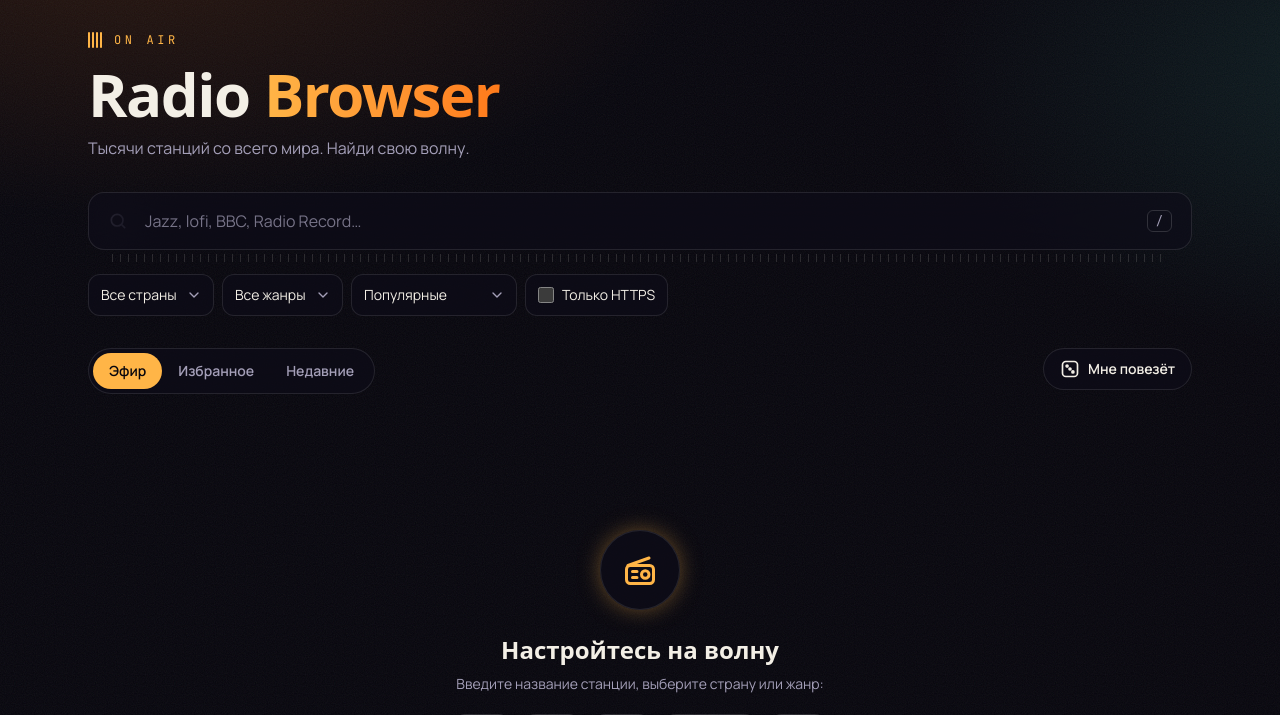
Test: App › избранное не сбрасывается при новом поиске
The width and height of the screenshot is (1280, 715).
Step 1. Type "jazz" into the search field named "Поиск станции по названию" → (640, 221), box [88,192,1192,250]
Then press Enter
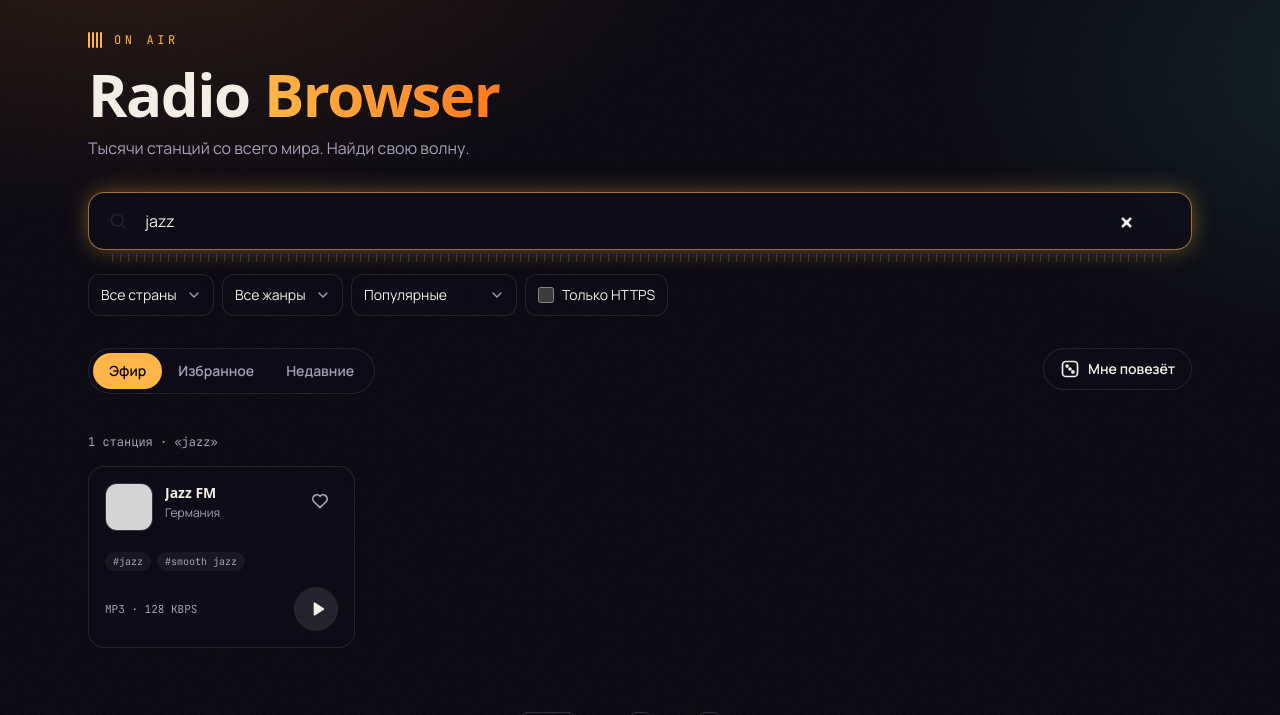
Step 2. Click the button named "Добавить «Jazz FM» в избранное" → (320, 501), box [302,483,338,519]
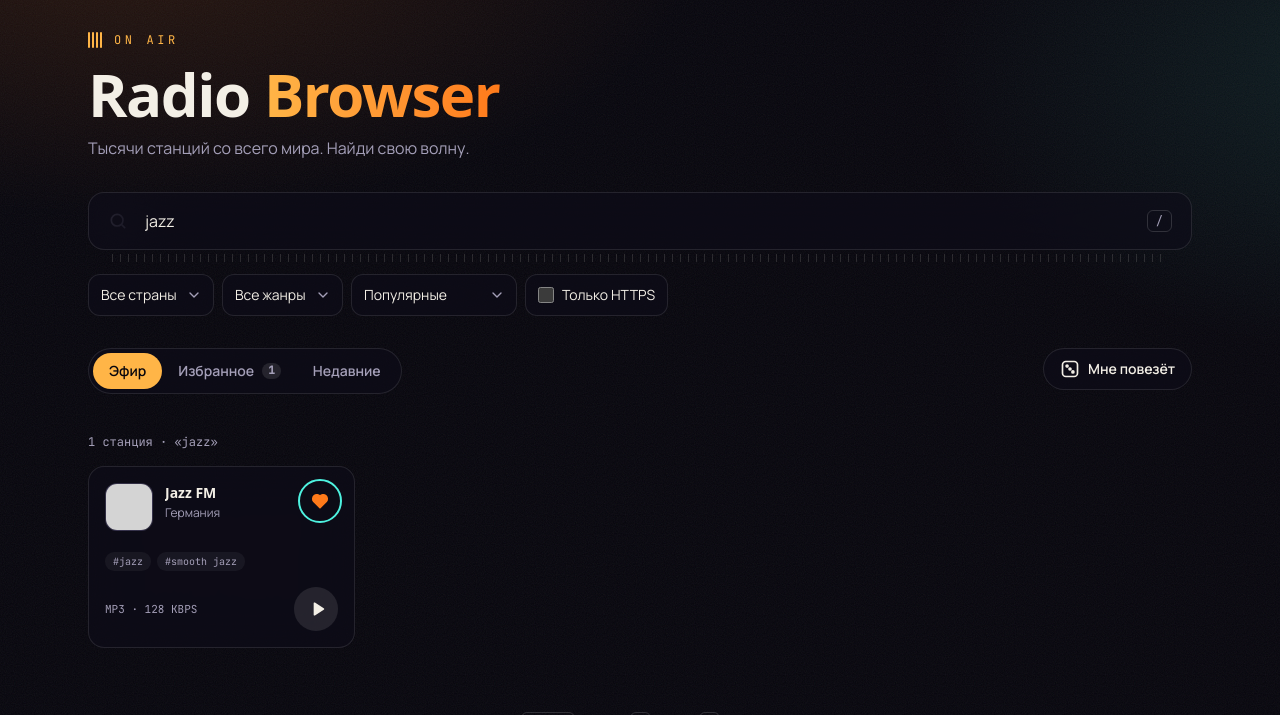
Step 3. Replace the text in the search field named "Поиск станции по названию" with "nothing" → (640, 221), box [88,192,1192,250]
Then press Enter
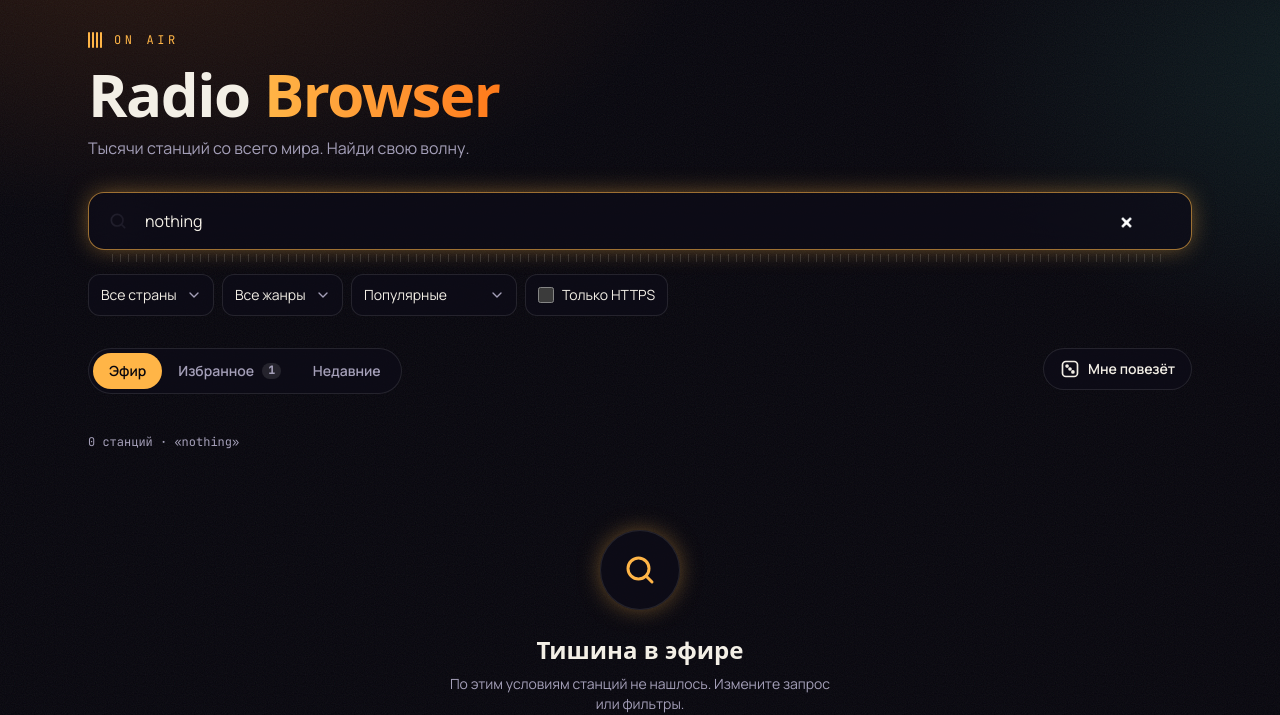
Expected: the heading "Тишина в эфире" is shown, [536,634,744,666]
Step 4. Click the tab "Избранное 1" → (229, 371), box [162,353,297,389]
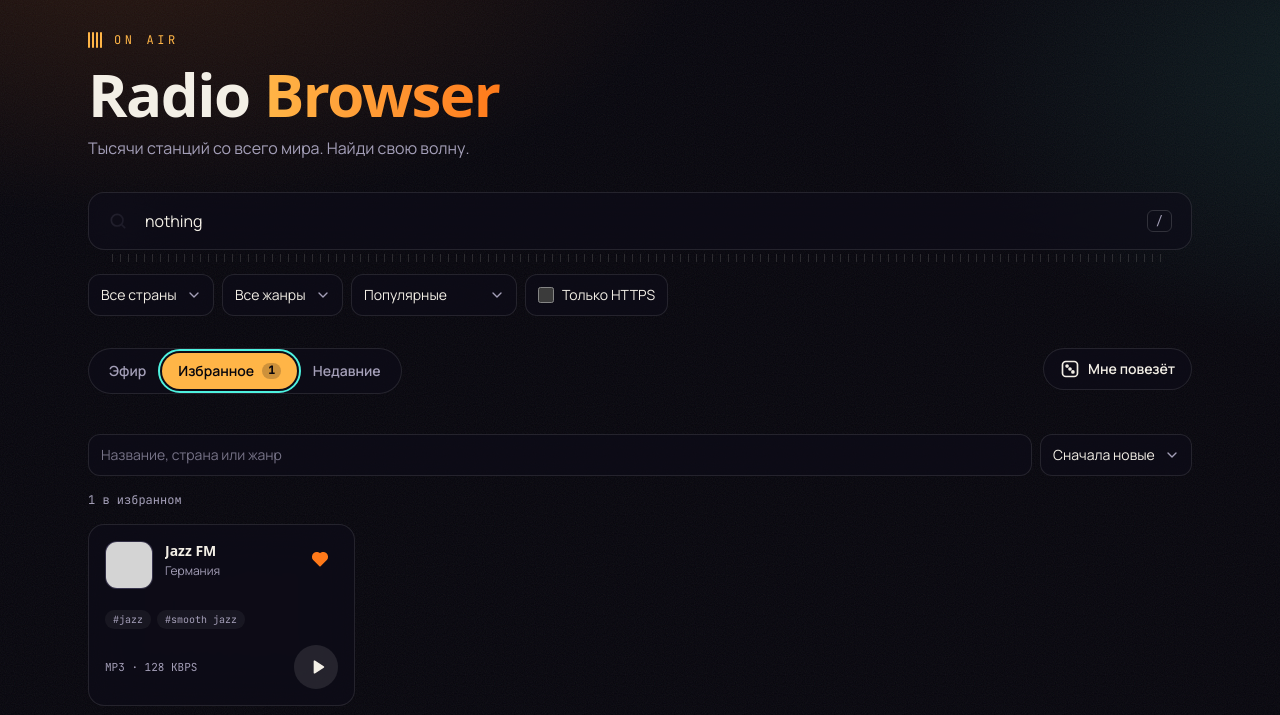
Expected: the heading "Jazz FM" is shown, [165,541,216,560]
